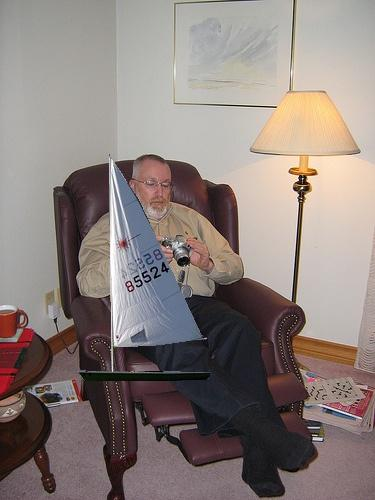tampered: (79, 155, 211, 381)
